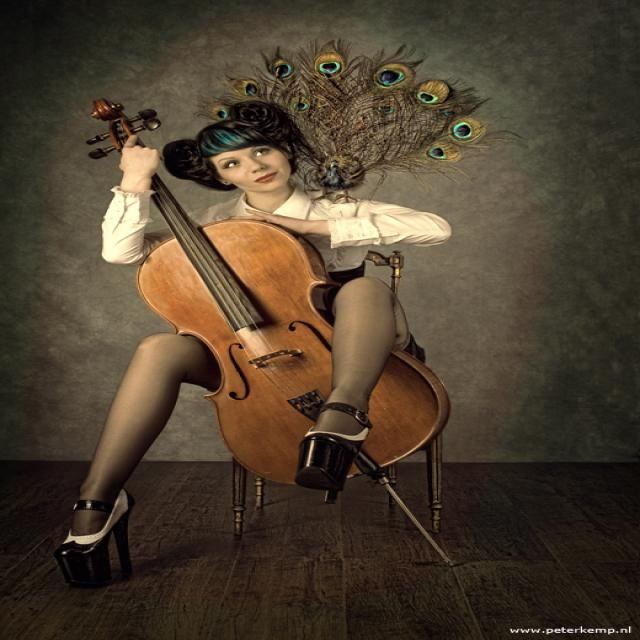cello: (82, 95, 453, 498)
